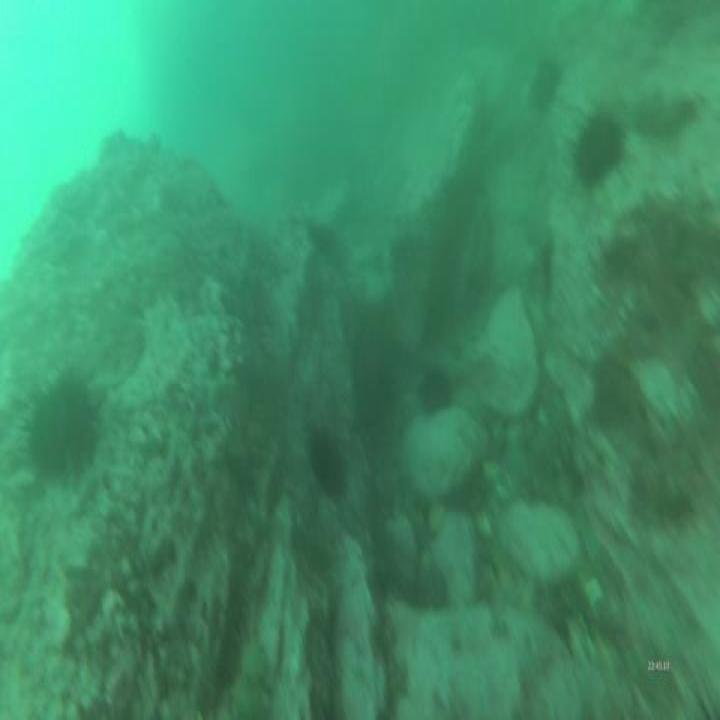echinus: (22, 364, 97, 490), (567, 105, 629, 194), (302, 421, 348, 498), (523, 50, 567, 115), (415, 363, 455, 421)
